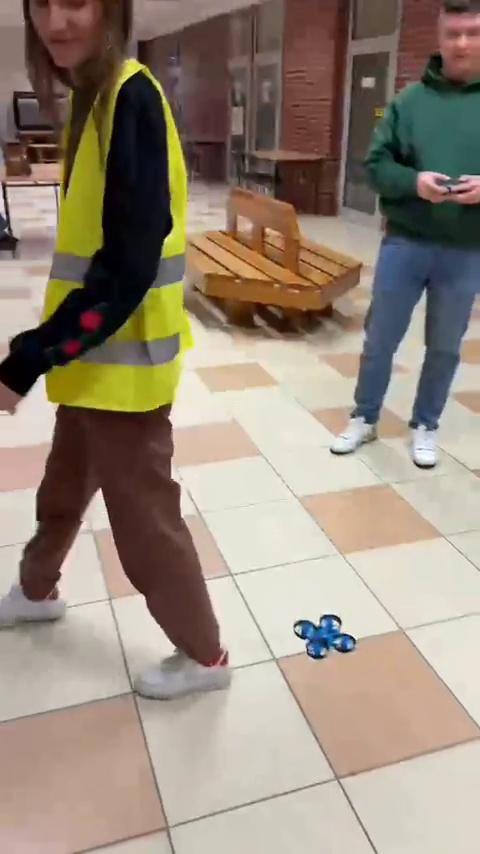drone: (291, 614, 357, 656)
no vest: (343, 7, 480, 467)
vest: (11, 7, 230, 706)
